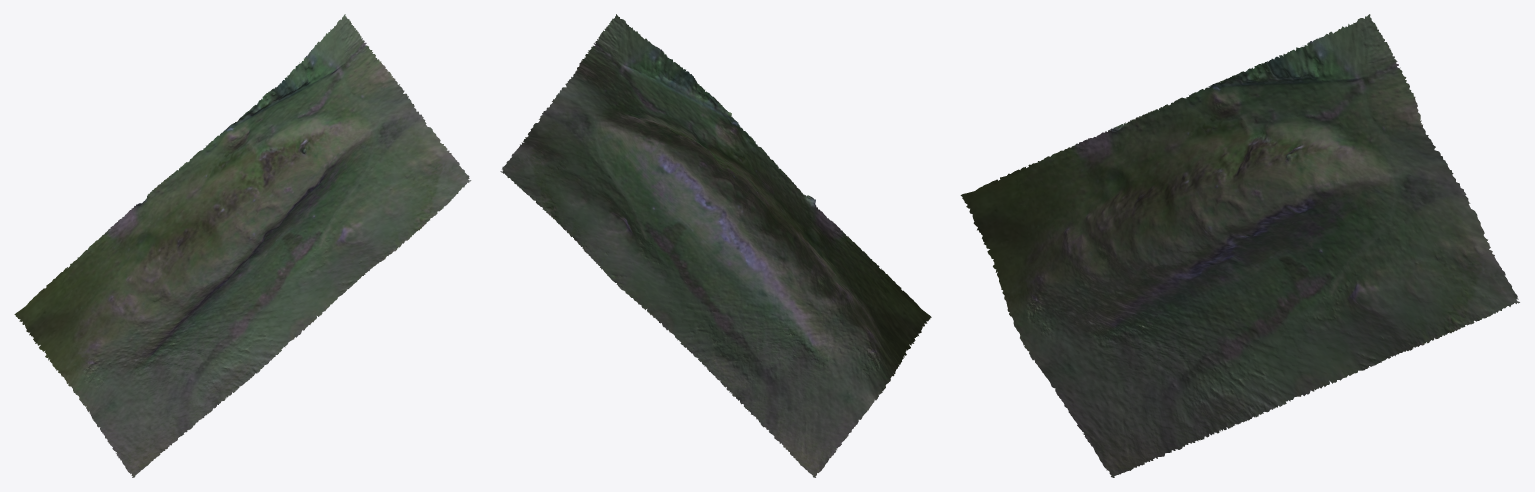
File: Castle Hill.obj
3 renders of one model, left to right at view 1: azimuth 30°, elevation 25°; view 2: azimuth 150°, elevation 25°; view 3: azimuth 330°, elevation 25°, orthographic. The views are drawn at different scales.
Bounding box in the file's own units: 289 × 257 × 24.79.
